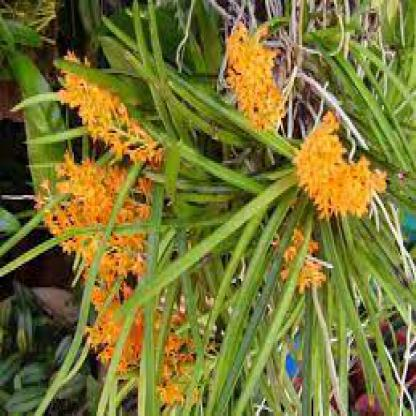ANGGREK: (33, 25, 387, 383)
